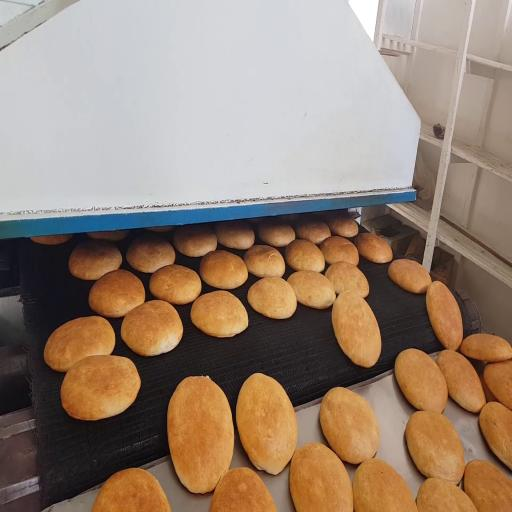bread: (167, 377, 234, 493), (236, 374, 297, 474), (61, 356, 140, 420), (320, 388, 379, 464), (290, 443, 353, 511), (406, 412, 464, 484), (44, 316, 115, 372), (332, 292, 381, 367), (121, 301, 183, 356), (92, 468, 170, 511), (353, 459, 417, 511), (395, 348, 447, 412), (436, 350, 485, 412), (210, 468, 277, 511), (191, 291, 248, 338), (89, 270, 145, 317), (426, 282, 462, 349), (464, 460, 511, 511), (479, 402, 511, 469), (69, 241, 122, 280), (248, 277, 296, 319), (150, 265, 201, 304), (417, 478, 477, 511), (200, 250, 247, 289), (288, 271, 335, 309), (126, 238, 175, 273), (325, 261, 369, 297), (388, 259, 431, 293), (460, 334, 511, 362), (173, 225, 217, 256), (244, 245, 285, 277), (484, 361, 511, 409), (285, 240, 325, 272), (354, 233, 392, 263), (320, 236, 358, 265), (215, 221, 254, 249), (258, 220, 295, 247), (295, 220, 330, 244), (327, 212, 358, 237), (479, 374, 498, 402), (87, 230, 129, 241), (31, 235, 72, 245), (146, 226, 174, 233), (246, 217, 265, 226)
